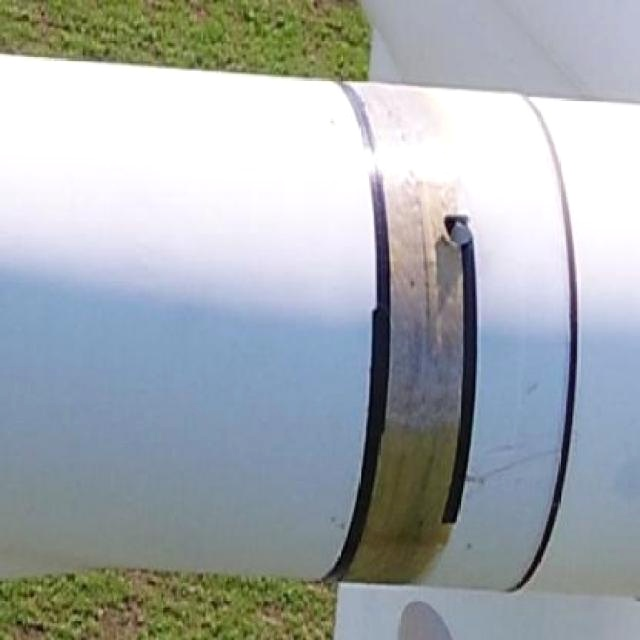Coating_defects: (524, 380, 538, 394)
Crack: (466, 434, 580, 492)
